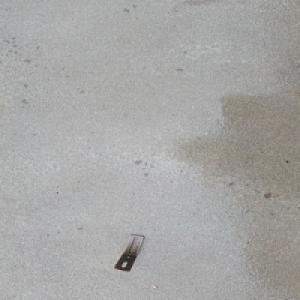MetalPart: (113, 234, 144, 272)
